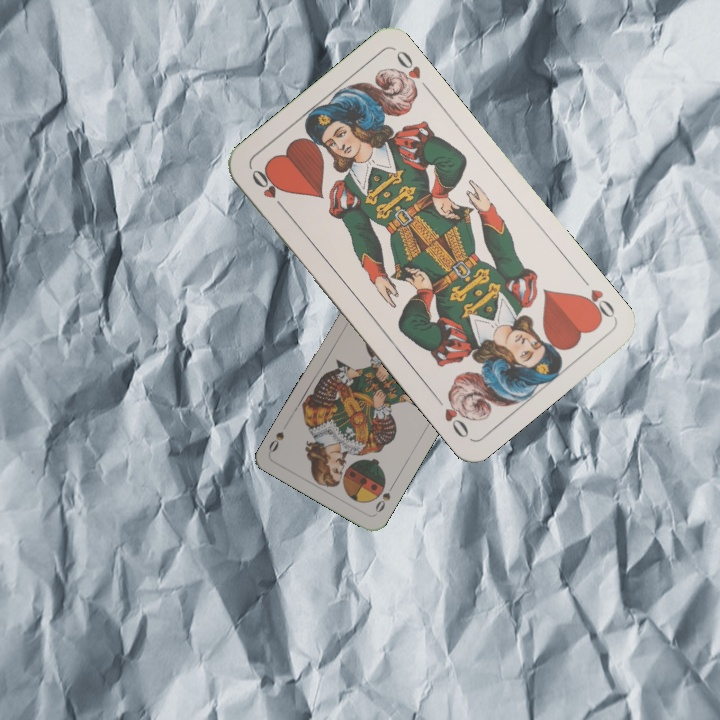HO: (575, 271, 618, 325), (247, 165, 290, 214)
SO: (371, 481, 397, 517)
